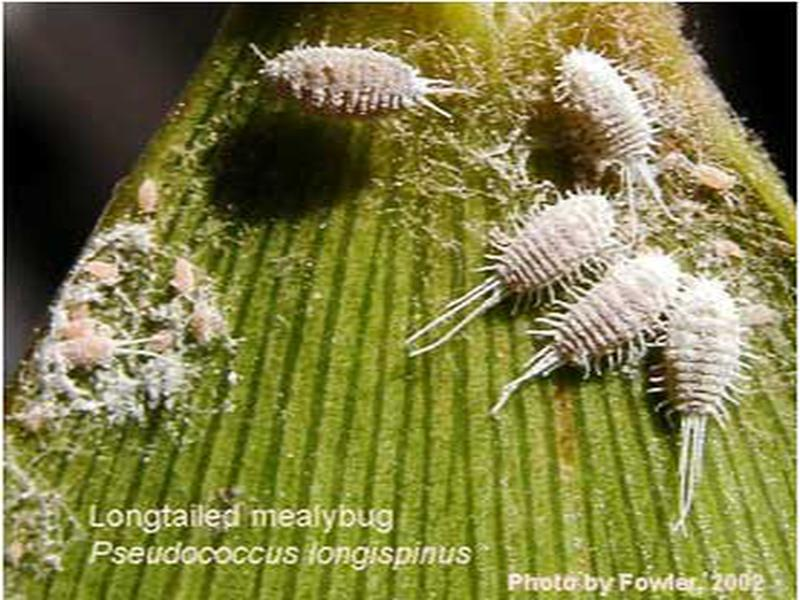Mealy_bug: (482, 52, 754, 456), (25, 206, 259, 414), (232, 35, 458, 128)
